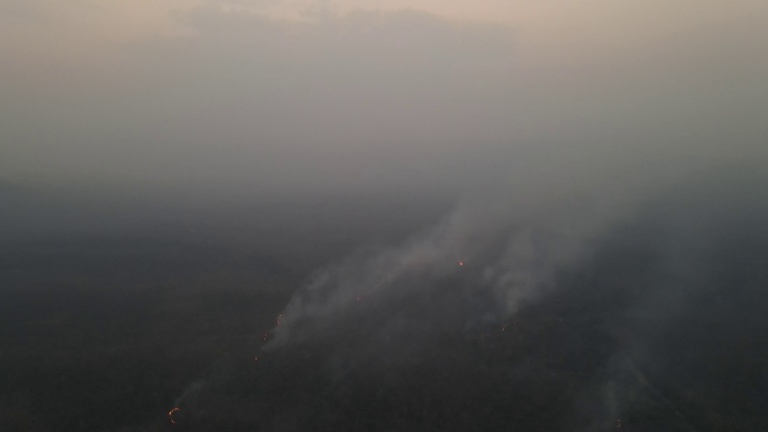fire: (254, 296, 296, 363), (479, 317, 527, 343), (163, 401, 180, 427), (456, 257, 465, 271)
smoke: (260, 147, 605, 367), (598, 273, 682, 431), (173, 371, 209, 410)
